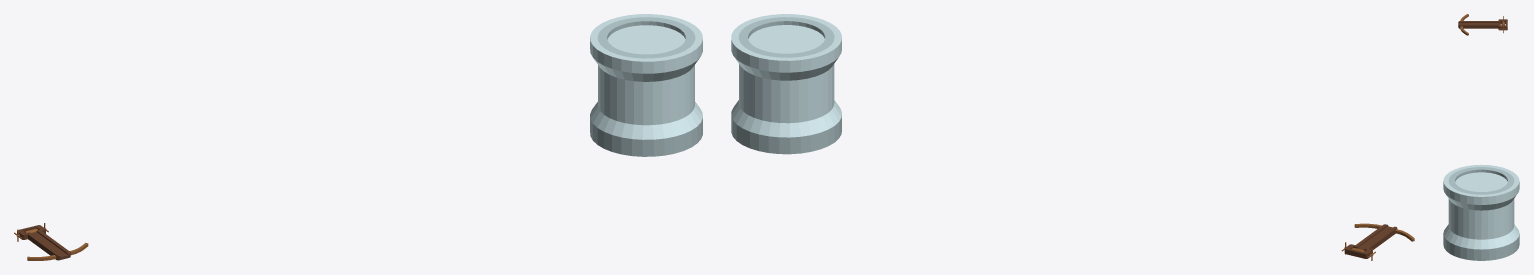
Rendered from Tower_5_Stone.fbx.
3 renders of one model, left to right at view 1: azimuth 30°, elevation 25°; view 2: azimuth 150°, elevation 25°; view 3: azimuth 270°, elevation 25°, orthographic. The views are drawn at different scales.
Visible parts, largest first — view 1: Tower_5_Stone, mobile_ballista-2; view 2: Tower_5_Stone, mobile_ballista-2; view 3: Tower_5_Stone, mobile_ballista-2.
Boxes of the visible parts, bbox=[...] form: Tower_5_Stone: bbox=[590, 14, 702, 156]; mobile_ballista-2: bbox=[17, 225, 88, 260]; Tower_5_Stone: bbox=[731, 14, 841, 154]; mobile_ballista-2: bbox=[1344, 223, 1414, 258]; Tower_5_Stone: bbox=[1443, 164, 1519, 260]; mobile_ballista-2: bbox=[1458, 14, 1507, 35].
Size of the model in its own units: 623 by 83.5 by 90.
